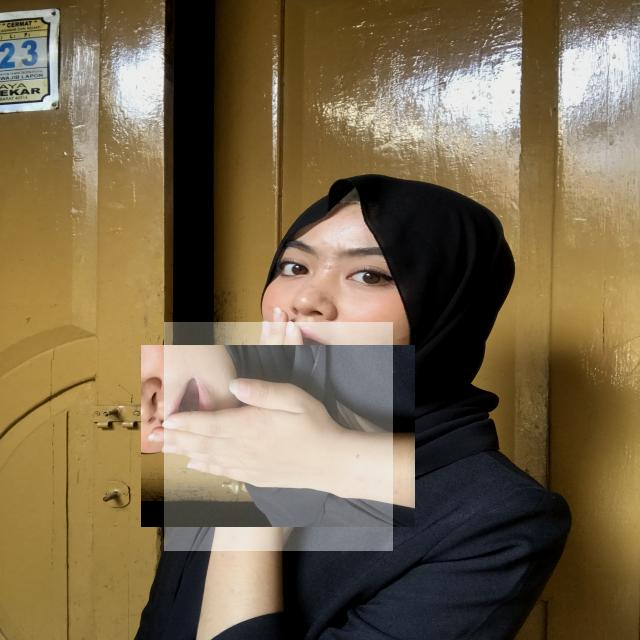ngantuk: (164, 322, 393, 551)
